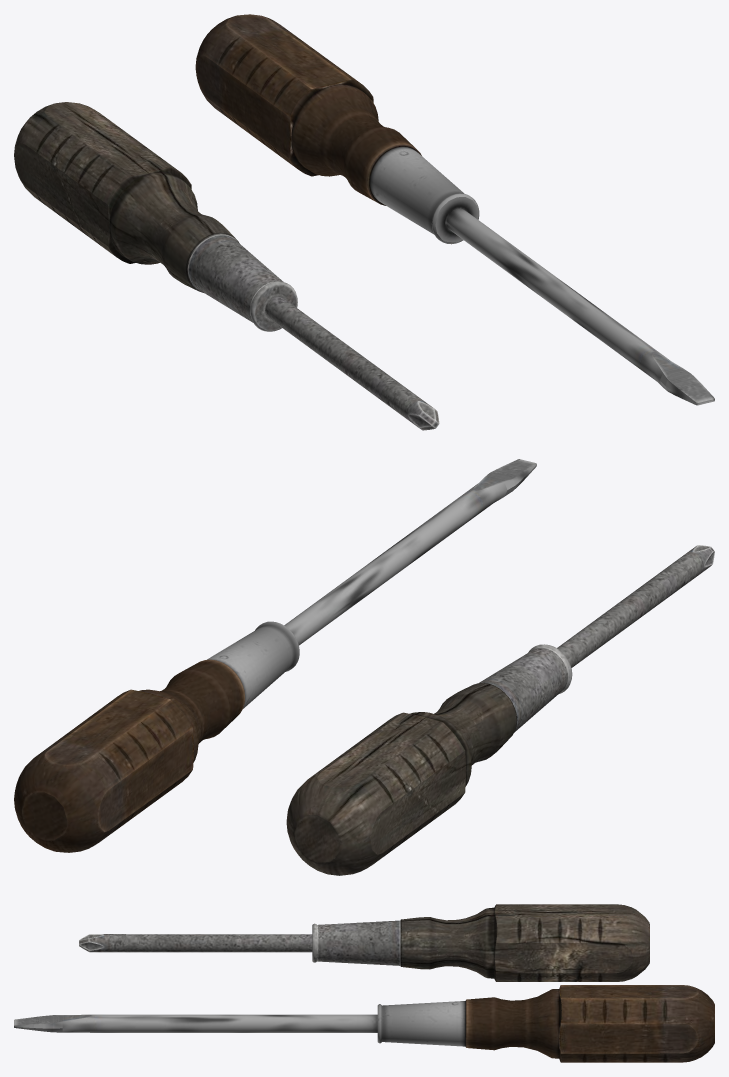
Rendered from screwdrivers_02.glb.
3 renders of one model, top to bottom at view 1: azimuth 30°, elevation 25°; view 2: azimuth 150°, elevation 25°; view 3: azimuth 270°, elevation 25°, orthographic. The views are drawn at different scales.
Visible parts, largest first — view 1: screwdrivers_02; view 2: screwdrivers_02; view 3: screwdrivers_02.
Part boxes in pixels (<box>): screwdrivers_02: <box>14,14,714,430</box>; screwdrivers_02: <box>14,459,714,875</box>; screwdrivers_02: <box>14,904,714,1062</box>.
Size of the model in its own units: 0.1005 by 0.0271 by 0.2699.
Materials: 1 (1 with a texture image).
